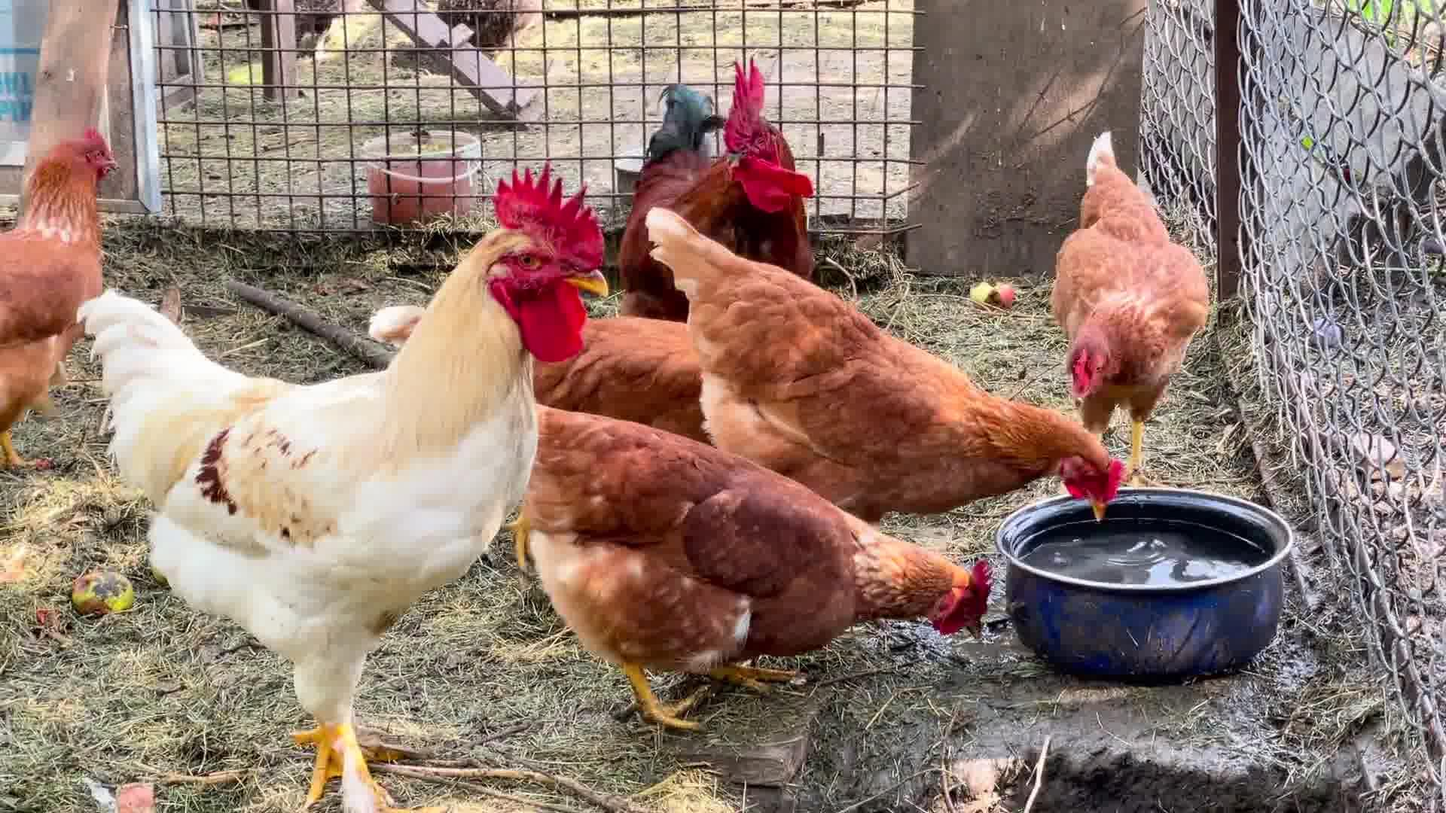Normal: (125, 166, 617, 813), (548, 407, 998, 726), (648, 209, 1122, 509), (1028, 126, 1234, 432), (6, 115, 119, 500), (635, 66, 816, 289)
